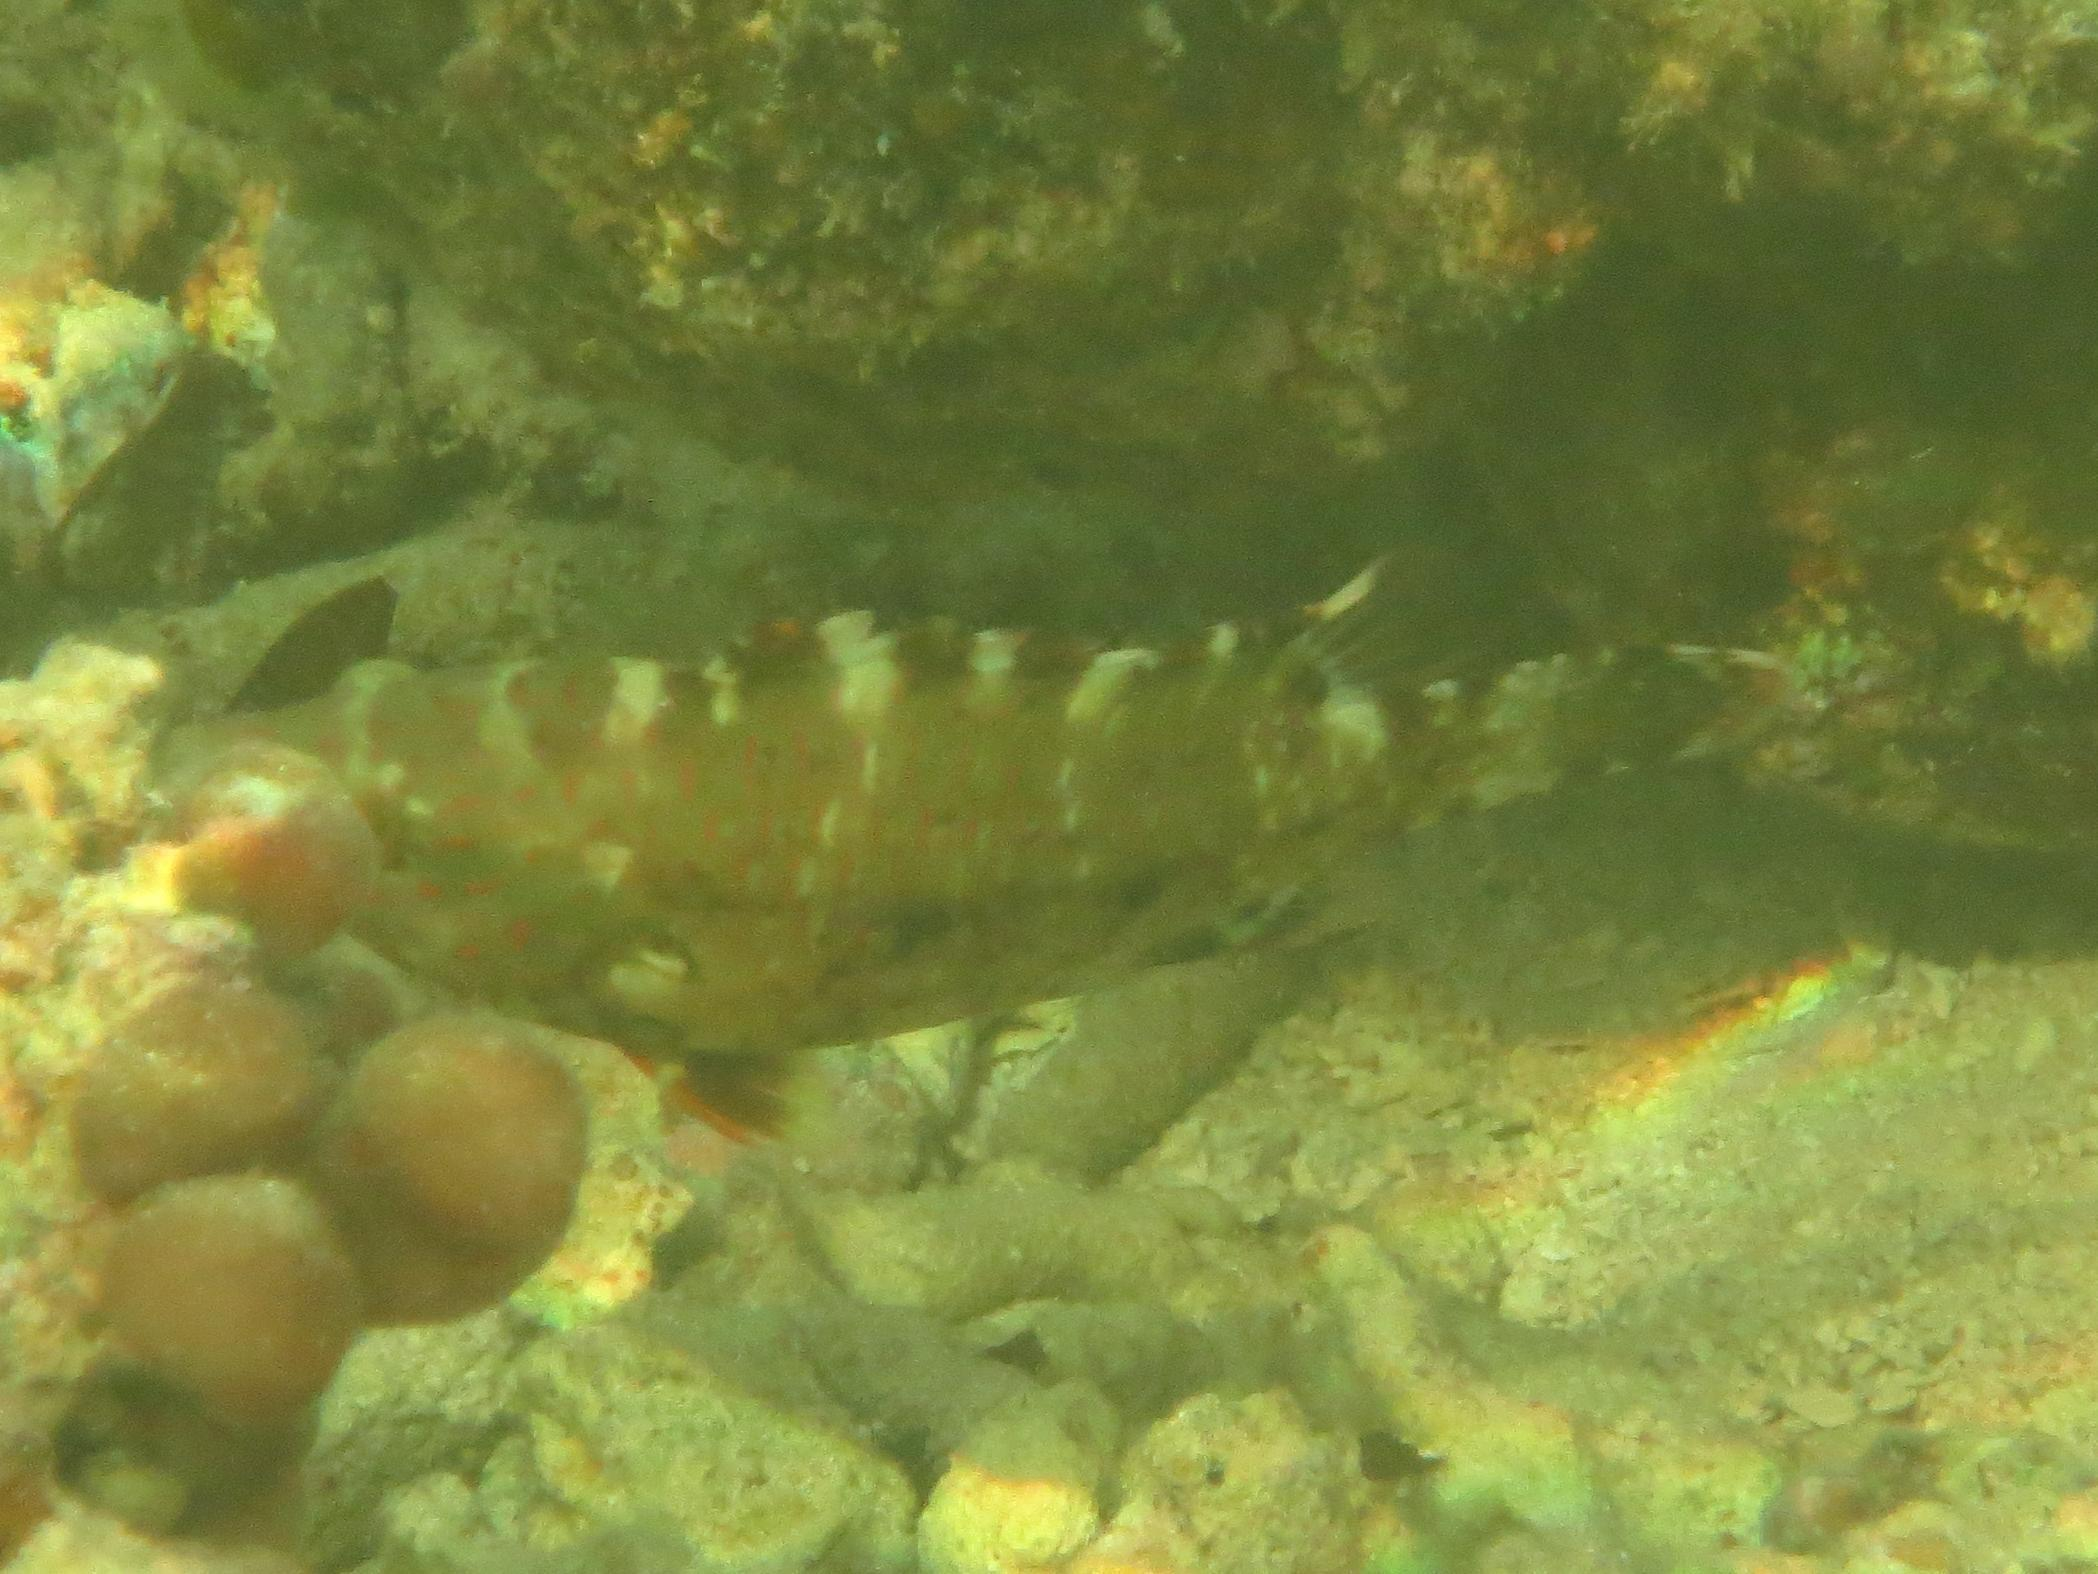Fish: (111, 546, 1883, 1066)
